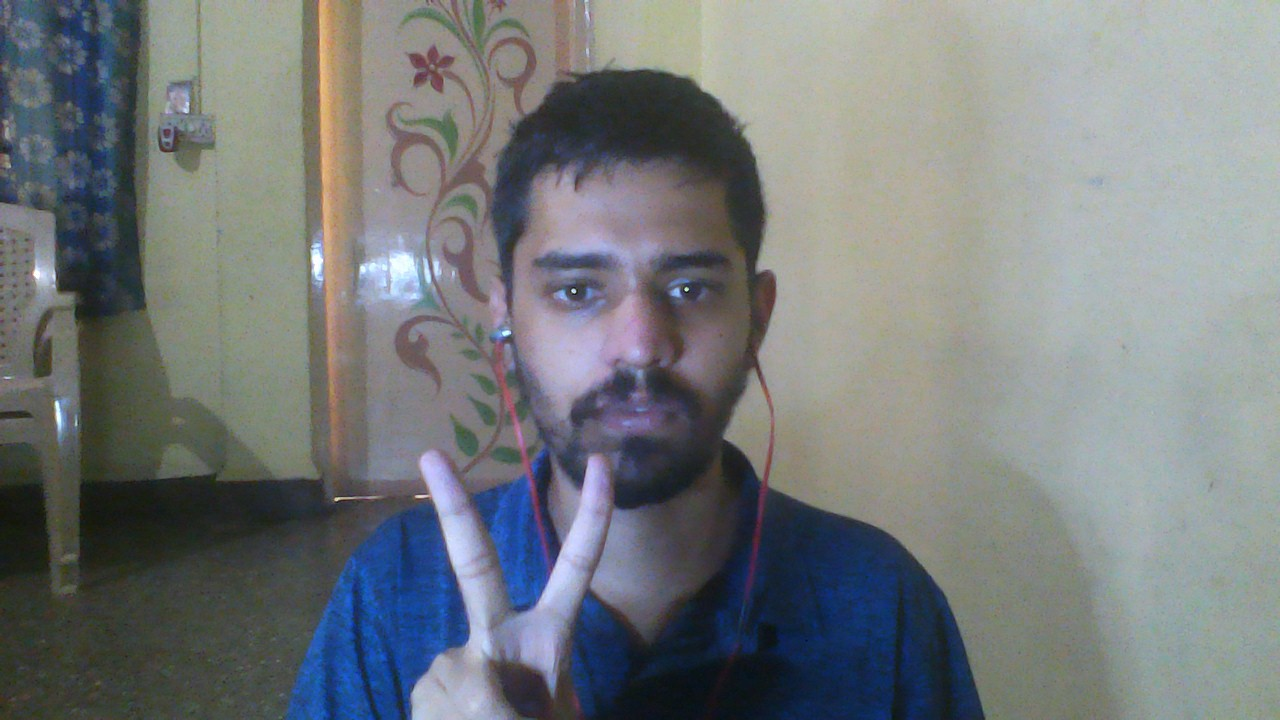v: (374, 417, 654, 720)
